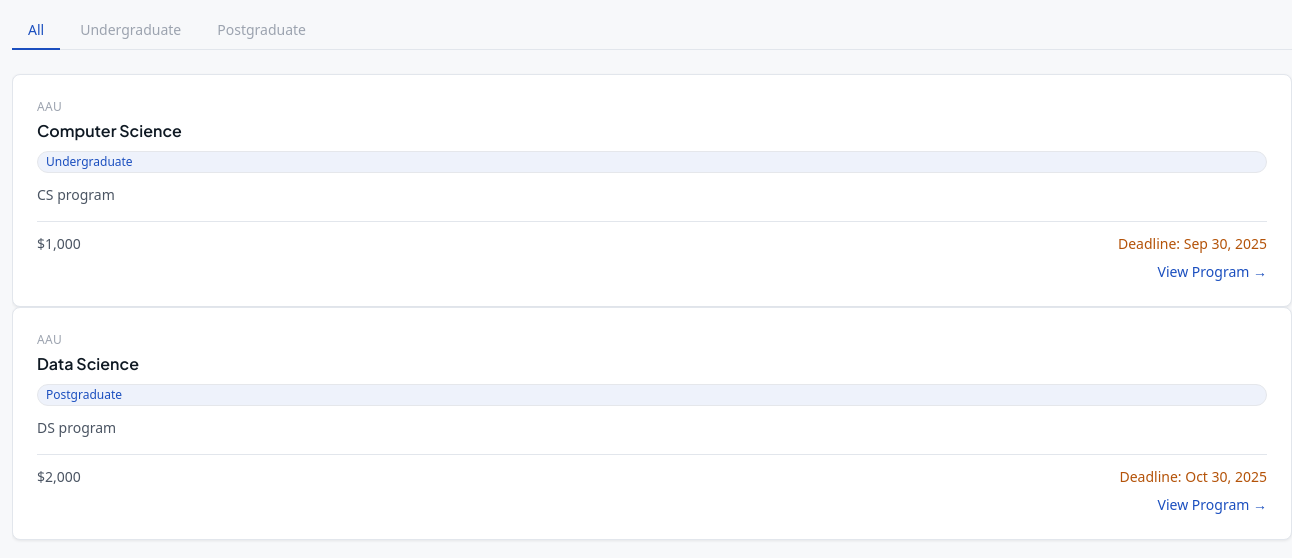
it: ProgramFilterClient › filters by postgraduate when tab clicked
Click the button "Postgraduate" at (262, 31), box [201,12,322,50]
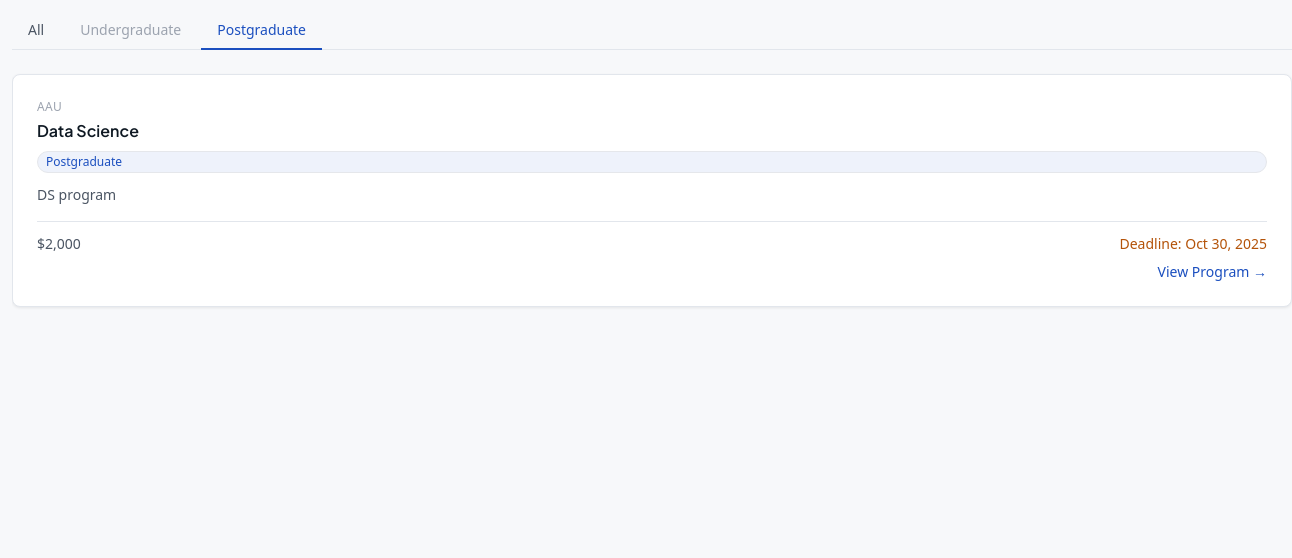
Expected: the heading "Data Science" is shown, [37,120,139,141]
Expected: the link "Computer Science" is gone
